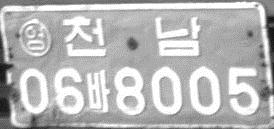0: (188, 64, 222, 116), (150, 66, 182, 116), (17, 67, 49, 114)
5: (226, 66, 260, 116)
6: (53, 66, 85, 115)
8: (113, 65, 146, 115)
바: (84, 68, 111, 113)
영: (18, 19, 52, 57)
전남_D: (61, 16, 201, 57)
